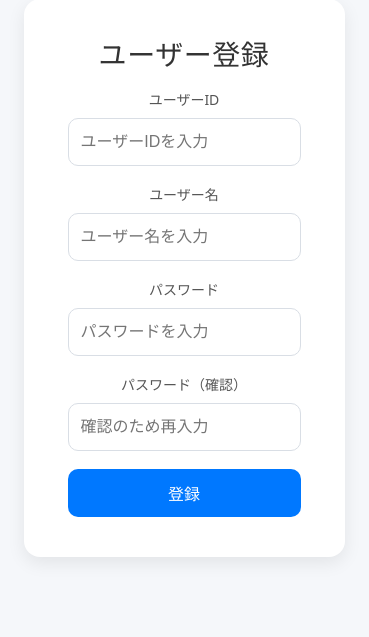
Test case: RegistUser Component › 各入力項目が未入力の場合、エラーメッセージが表示されることを確認
Click the button "登録": (184, 493) [68, 469, 300, 517]
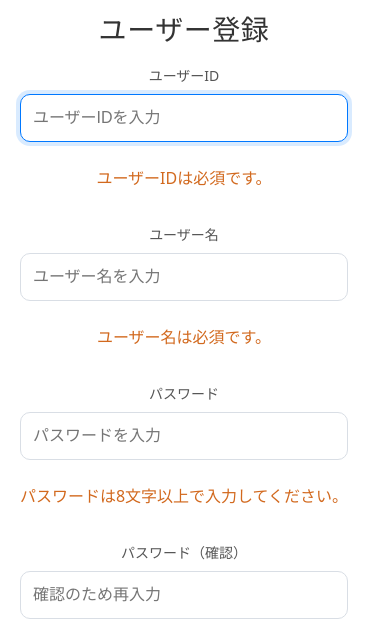
Now the text "ユーザーIDは必須です。" is shown, box [96, 167, 272, 189]
Now the text "ユーザー名は必須です。" is shown, box [97, 326, 271, 348]
Now the text "パスワードは8文字以上で入力してください。" is shown, box [20, 484, 348, 508]
